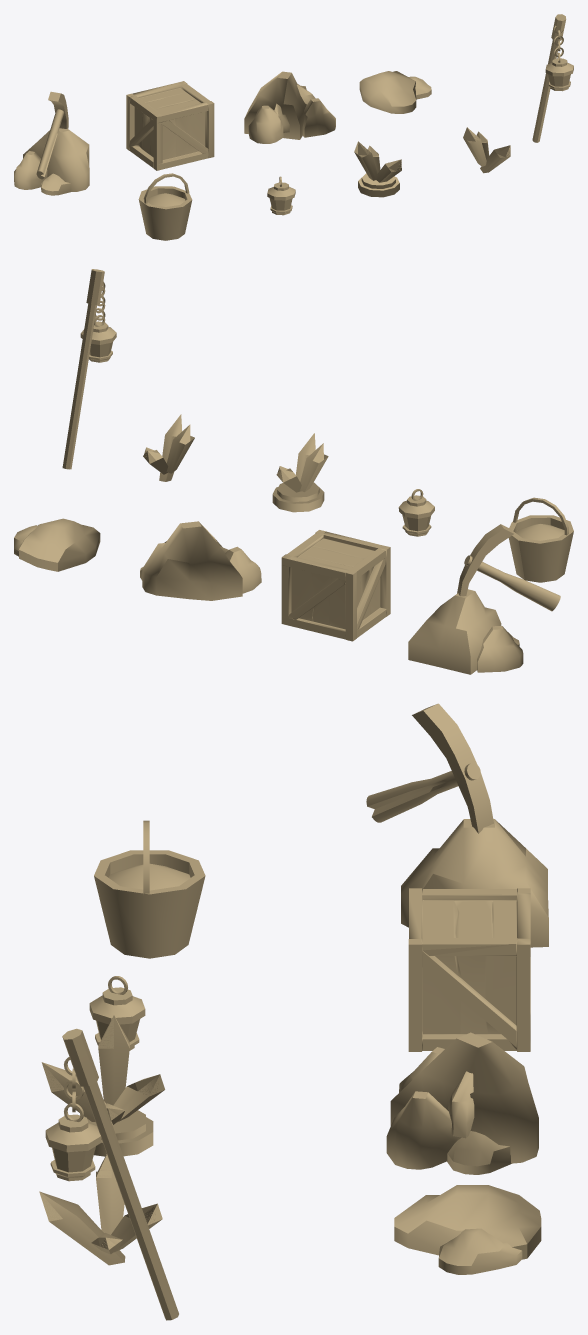
Rendered from props.fbx.
3 views of the same model, one above another, from view 1: azimuth 30°, elevation 25°; view 2: azimuth 150°, elevation 25°; view 3: azimuth 270°, elevation 25° (orthographic). The views are drawn at different scales.
Parts seen in each view (by area): view 1: box, stone_gold, stone, bucket, stone2, flash2, kristal, kristal2, kirka, flash; view 2: box, stone_gold, stone, bucket, stone2, flash2, kristal, kirka, kristal2, flash; view 3: box, stone_gold, stone2, bucket, flash2, stone, kristal, kirka, kristal2, flash.
Part boxes in pixels (left/top/right/bottom): box: left=126, top=81, right=214, bottom=170; stone_gold: left=244, top=71, right=335, bottom=143; stone: left=14, top=128, right=89, bottom=195; bucket: left=138, top=173, right=192, bottom=240; stone2: left=359, top=71, right=431, bottom=113; flash2: left=532, top=14, right=573, bottom=142; kristal: left=354, top=141, right=401, bottom=197; kristal2: left=463, top=127, right=510, bottom=173; kirka: left=36, top=91, right=68, bottom=179; flash: left=267, top=176, right=295, bottom=215; box: left=281, top=530, right=390, bottom=641; stone_gold: left=140, top=521, right=261, bottom=600; stone: left=408, top=589, right=523, bottom=674; bucket: left=508, top=497, right=573, bottom=582; stone2: left=14, top=518, right=100, bottom=571; flash2: left=62, top=269, right=116, bottom=469; kristal: left=272, top=433, right=328, bottom=512; kirka: left=457, top=524, right=560, bottom=611; kristal2: left=143, top=414, right=194, bottom=481; flash: left=398, top=489, right=434, bottom=536; box: left=408, top=888, right=530, bottom=1051; stone_gold: left=386, top=1032, right=538, bottom=1174; stone2: left=394, top=1185, right=541, bottom=1274; bucket: left=94, top=820, right=205, bottom=958; flash2: left=45, top=1028, right=178, bottom=1320; stone: left=401, top=819, right=548, bottom=947; kristal: left=41, top=1015, right=164, bottom=1156; kirka: left=366, top=703, right=493, bottom=833; kristal2: left=39, top=1154, right=162, bottom=1265; flash: left=89, top=976, right=145, bottom=1050.
Size of the model in its own units: 387 by 186 by 119.
